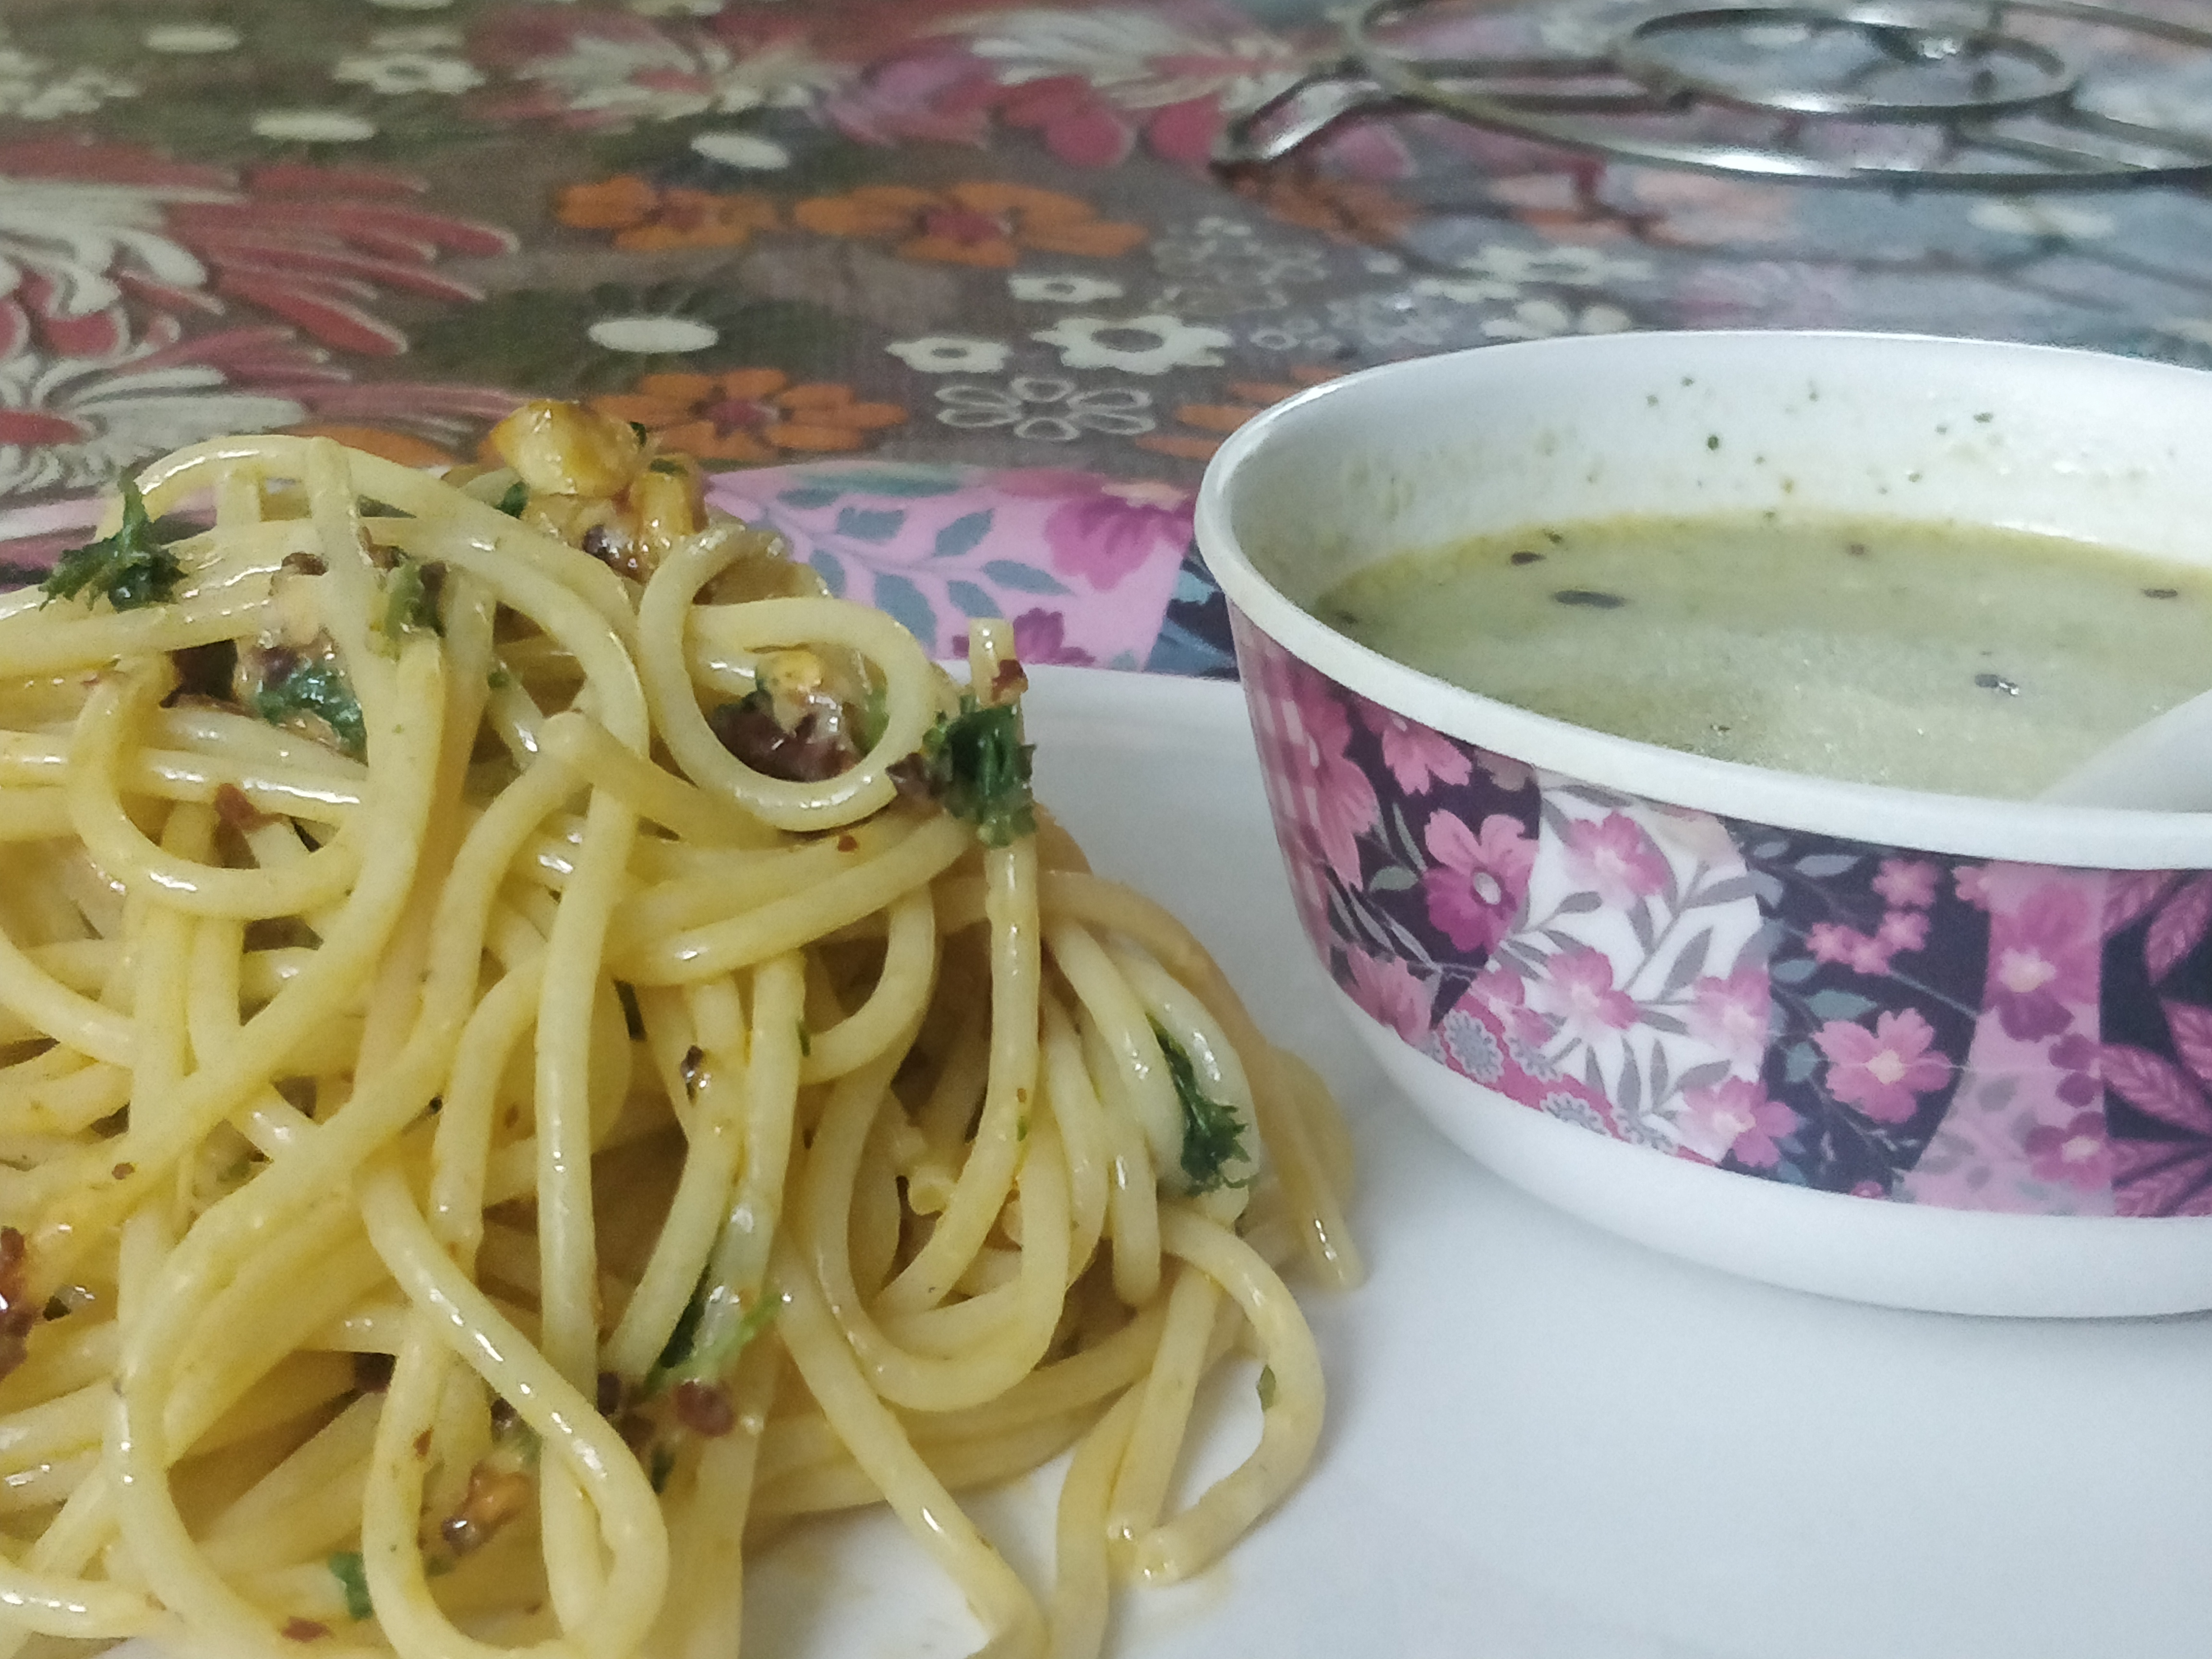food: (3, 380, 1378, 1656), (1289, 493, 2212, 803)
